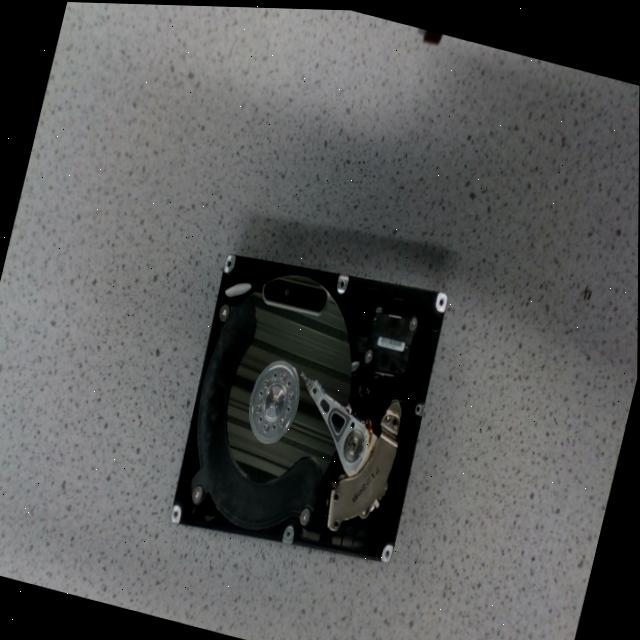actuator arm: (301, 371, 388, 517)
actuator axis: (347, 433, 360, 452)
case: (171, 250, 447, 560)
magnet: (326, 409, 400, 527)
pcb connector: (365, 306, 416, 372)
platter: (225, 271, 351, 481)
platter holder: (248, 358, 299, 440)
platter protector: (191, 295, 322, 527)
screw: (191, 483, 204, 503), (218, 301, 230, 320), (300, 504, 310, 521), (408, 313, 417, 331), (364, 346, 373, 361), (279, 367, 286, 379), (286, 387, 293, 398), (262, 374, 269, 385), (262, 418, 269, 429), (255, 399, 261, 410), (278, 414, 284, 424)
